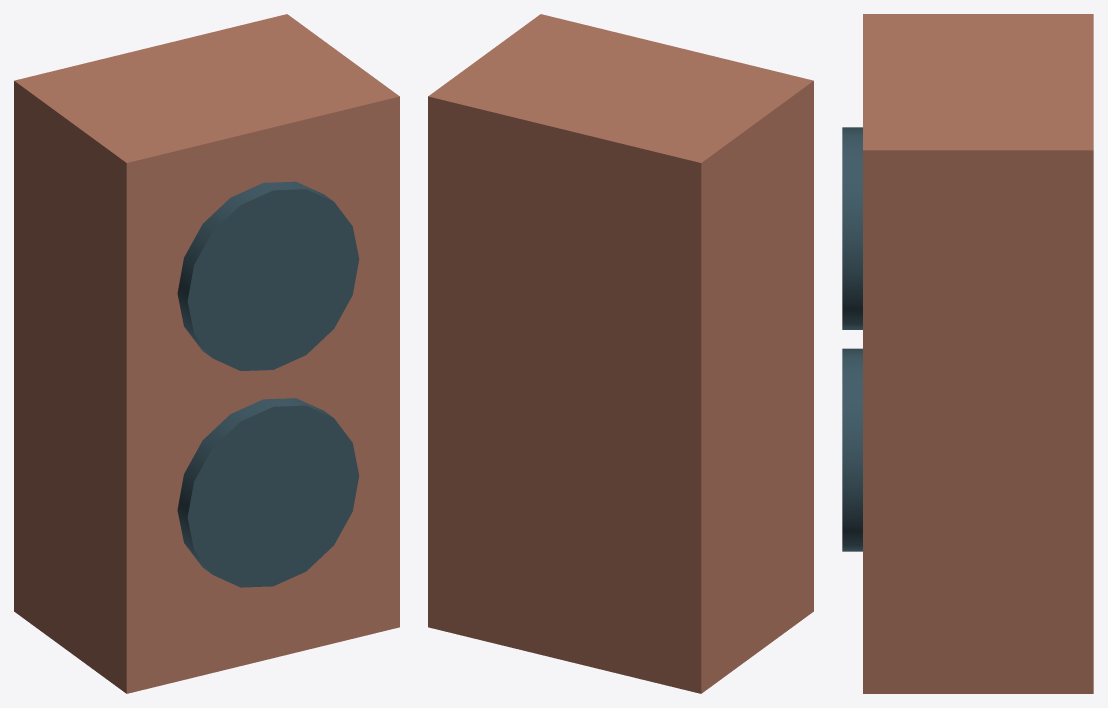
File: prop-bandstand-speaker-1.glb
3 renders of one model, left to right at view 1: azimuth 30°, elevation 25°; view 2: azimuth 150°, elevation 25°; view 3: azimuth 270°, elevation 25°, orthographic. The views are drawn at different scales.
Parts seen in each view (by area): view 1: speaker; view 2: speaker; view 3: speaker.
Part boxes in pixels (box(x1,y1,x2,y2)): speaker: box(14, 14, 399, 693); speaker: box(428, 14, 813, 693); speaker: box(842, 14, 1093, 693).
Size of the model in its own units: 0.7 by 1.3 by 0.545.
